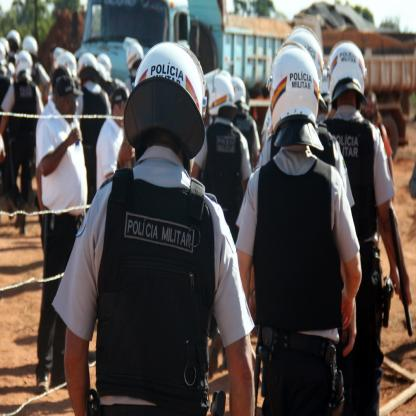Helmet: (117, 37, 212, 166), (268, 44, 326, 151), (265, 29, 331, 107), (324, 41, 370, 115), (205, 73, 240, 126), (52, 50, 80, 88), (77, 51, 104, 84), (3, 28, 26, 53), (234, 78, 245, 120), (99, 54, 113, 85), (21, 36, 38, 58)
